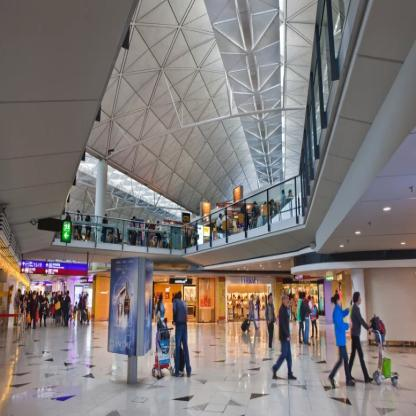airport-trolley: (368, 325, 401, 393), (152, 323, 176, 381)
